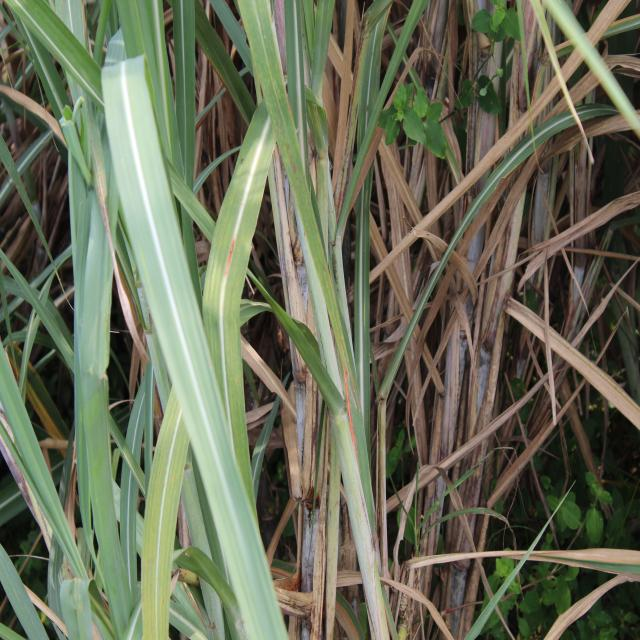Sugarcane: (254, 0, 385, 607), (200, 100, 294, 618), (333, 2, 416, 569), (62, 0, 121, 618), (1, 300, 87, 610), (363, 0, 437, 208), (239, 2, 303, 232), (110, 2, 180, 206), (3, 1, 106, 114), (1, 236, 74, 394), (302, 2, 340, 249), (1, 104, 55, 270), (58, 2, 97, 206), (191, 2, 254, 126), (0, 519, 52, 638), (354, 5, 385, 194), (283, 2, 306, 231), (171, 1, 196, 203), (124, 352, 153, 524), (165, 161, 223, 244)
